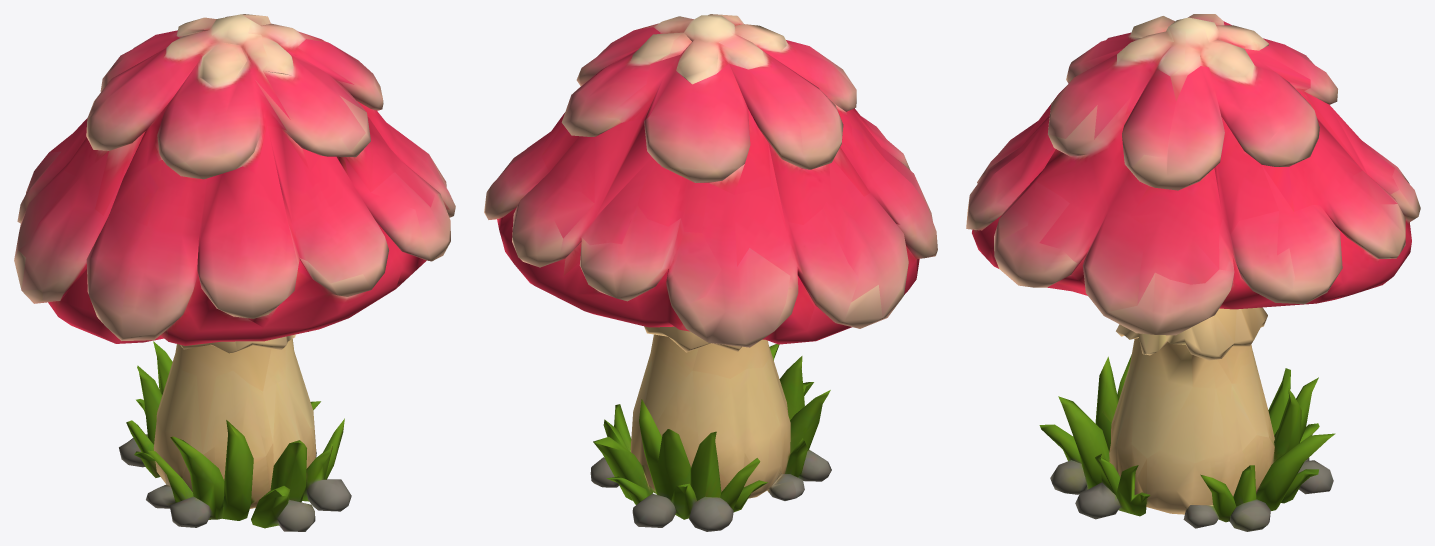
The model's file is shroom_pink.glb.
3 views of the same model, side by side, from view 1: azimuth 30°, elevation 25°; view 2: azimuth 150°, elevation 25°; view 3: azimuth 270°, elevation 25° (orthographic).
Visible parts, largest first — view 1: tripo_node_eca8ebae-9043-4f51-a3df-da58bef8e393; view 2: tripo_node_eca8ebae-9043-4f51-a3df-da58bef8e393; view 3: tripo_node_eca8ebae-9043-4f51-a3df-da58bef8e393.
Part boxes in pixels (x1,y1,x2,y2): tripo_node_eca8ebae-9043-4f51-a3df-da58bef8e393: (14, 14, 455, 531); tripo_node_eca8ebae-9043-4f51-a3df-da58bef8e393: (484, 14, 937, 531); tripo_node_eca8ebae-9043-4f51-a3df-da58bef8e393: (966, 14, 1420, 531).
Bounding box in the file's own units: 1.31 × 1.5 × 1.32.
1 material, 1 textured.
